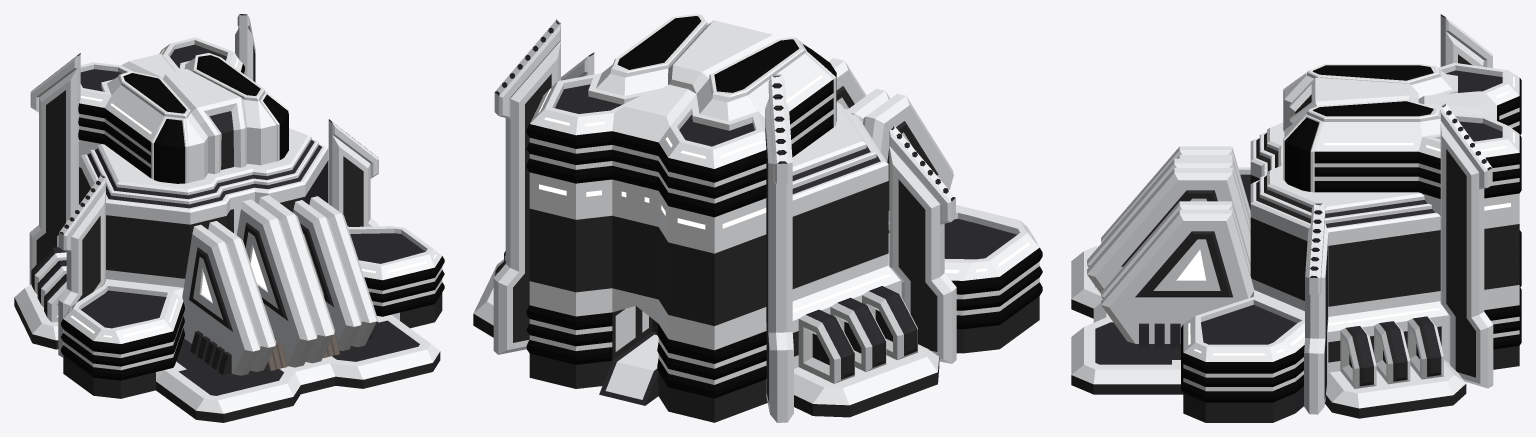
Rendered from EnergyCellFactory.fbx.
3 views of the same model, side by side, from view 1: azimuth 30°, elevation 25°; view 2: azimuth 150°, elevation 25°; view 3: azimuth 270°, elevation 25° (orthographic). The views are drawn at different scales.
Visible parts, largest first — view 1: EnergyCellFactory_Generator, EnergyCellFactory_UpperBody, EnergyCellFactory_Body, EnergyCellFactory_Foundation, EnergyCellFactory_Chimney, EnergyCellFactory_SideRooms, EnergyCellFactory_SideParts; view 2: EnergyCellFactory_UpperBody, EnergyCellFactory_Chimney, EnergyCellFactory_Body, EnergyCellFactory_Foundation, EnergyCellFactory_SideRooms, EnergyCellFactory_SideParts, EnergyCellFactory_Generator; view 3: EnergyCellFactory_UpperBody, EnergyCellFactory_Body, EnergyCellFactory_Generator, EnergyCellFactory_Chimney, EnergyCellFactory_Foundation, EnergyCellFactory_SideRooms, EnergyCellFactory_SideParts.
Boxes of the visible parts, x1,y1,x2,y2 form: EnergyCellFactory_Generator: (182, 195, 377, 375); EnergyCellFactory_UpperBody: (78, 37, 288, 204); EnergyCellFactory_Body: (81, 128, 328, 287); EnergyCellFactory_Foundation: (14, 284, 442, 422); EnergyCellFactory_Chimney: (29, 14, 379, 357); EnergyCellFactory_SideRooms: (61, 226, 444, 380); EnergyCellFactory_SideParts: (31, 247, 66, 322); EnergyCellFactory_UpperBody: (526, 14, 836, 398); EnergyCellFactory_Chimney: (493, 19, 956, 422); EnergyCellFactory_Body: (639, 102, 901, 368); EnergyCellFactory_Foundation: (473, 205, 1039, 422); EnergyCellFactory_SideRooms: (888, 209, 1042, 329); EnergyCellFactory_SideParts: (495, 251, 917, 383); EnergyCellFactory_Generator: (819, 54, 953, 220); EnergyCellFactory_UpperBody: (1283, 62, 1521, 349); EnergyCellFactory_Body: (1250, 122, 1449, 372); EnergyCellFactory_Generator: (1087, 146, 1254, 348); EnergyCellFactory_Chimney: (1304, 14, 1493, 414); EnergyCellFactory_Foundation: (1071, 246, 1519, 422); EnergyCellFactory_SideRooms: (1181, 167, 1304, 402); EnergyCellFactory_SideParts: (1340, 316, 1443, 388).
Bounding box in the file's own units: 2020 × 1320 × 2010.
1 material, 1 textured.
